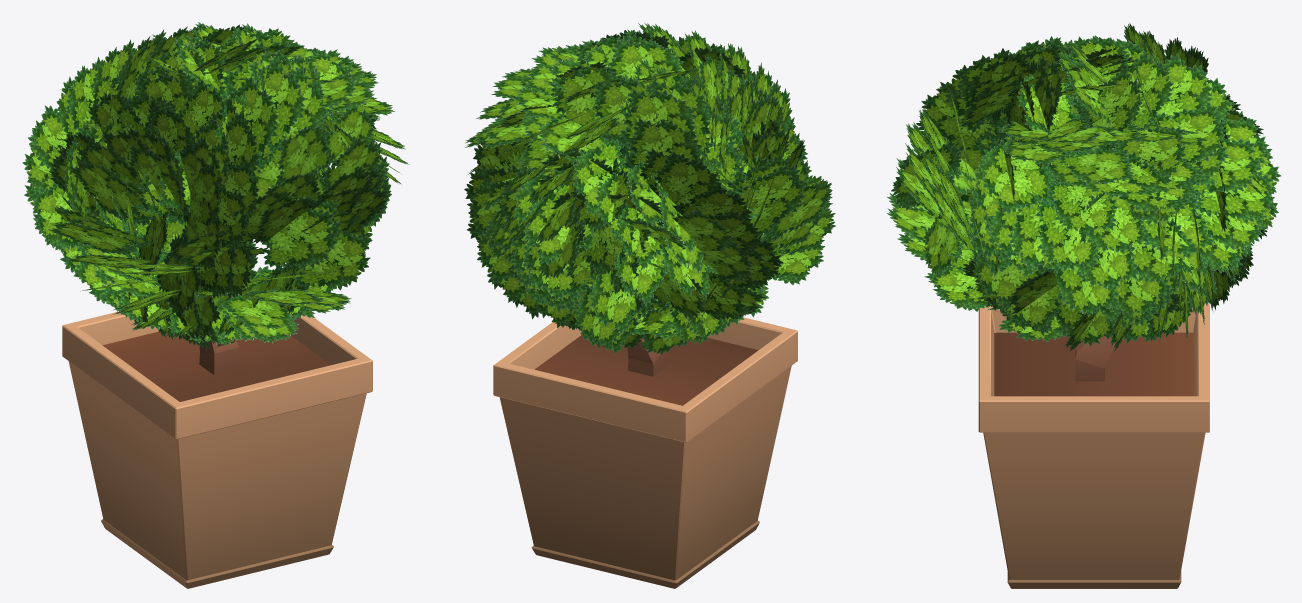
The model's file is Hornet.fbx.
3 views of the same model, side by side, from view 1: azimuth 30°, elevation 25°; view 2: azimuth 150°, elevation 25°; view 3: azimuth 270°, elevation 25° (orthographic). The views are drawn at different scales.
Parts seen in each view (by area): view 1: Plane.001, Cube, Cube.001, Cube.002; view 2: Plane.001, Cube, Cube.001, Cube.002; view 3: Plane.001, Cube, Cube.001, Cube.002.
Boxes of the visible parts, x1,y1,x2,y2 form: Plane.001: (22,22,409,349); Cube: (62,311,372,588); Cube.001: (102,331,330,401); Cube.002: (199,338,239,375); Plane.001: (464,23,835,354); Cube: (493,317,797,588); Cube.001: (535,334,758,405); Cube.002: (627,337,667,376); Plane.001: (887,23,1281,351); Cube: (978,303,1209,588); Cube.001: (994,332,1194,396); Cube.002: (1069,336,1115,381).
Bounding box in the file's own units: 377 × 512 × 367.
